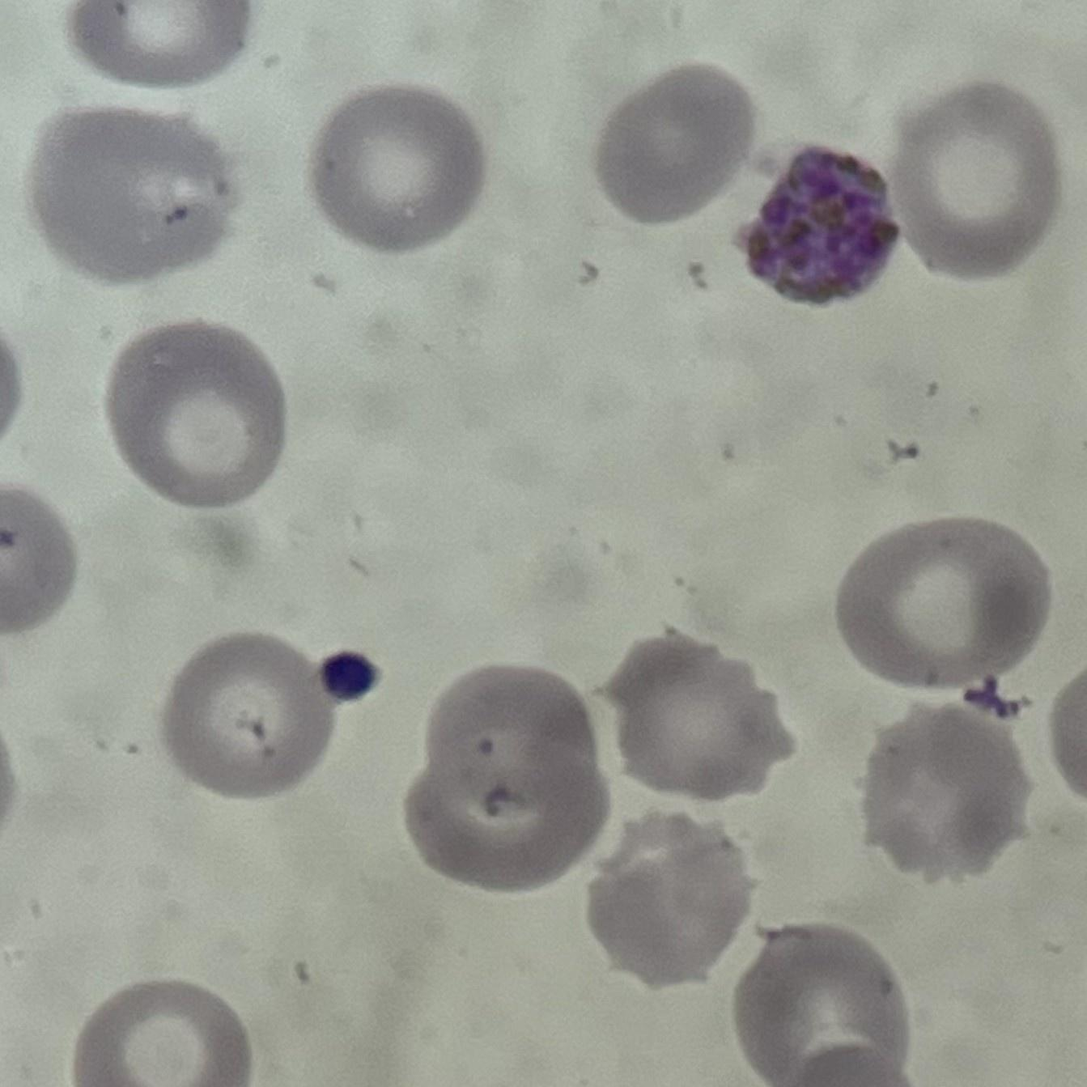Infected: (737, 141, 898, 305)
Uninfected: (831, 511, 1044, 690), (105, 319, 292, 514), (888, 82, 1058, 280), (30, 101, 220, 278), (602, 630, 790, 800), (407, 735, 612, 886), (861, 708, 1033, 879), (585, 810, 749, 984), (728, 926, 904, 1087), (165, 630, 335, 791), (305, 93, 479, 249), (594, 60, 760, 221), (432, 665, 602, 815), (70, 980, 249, 1087)
